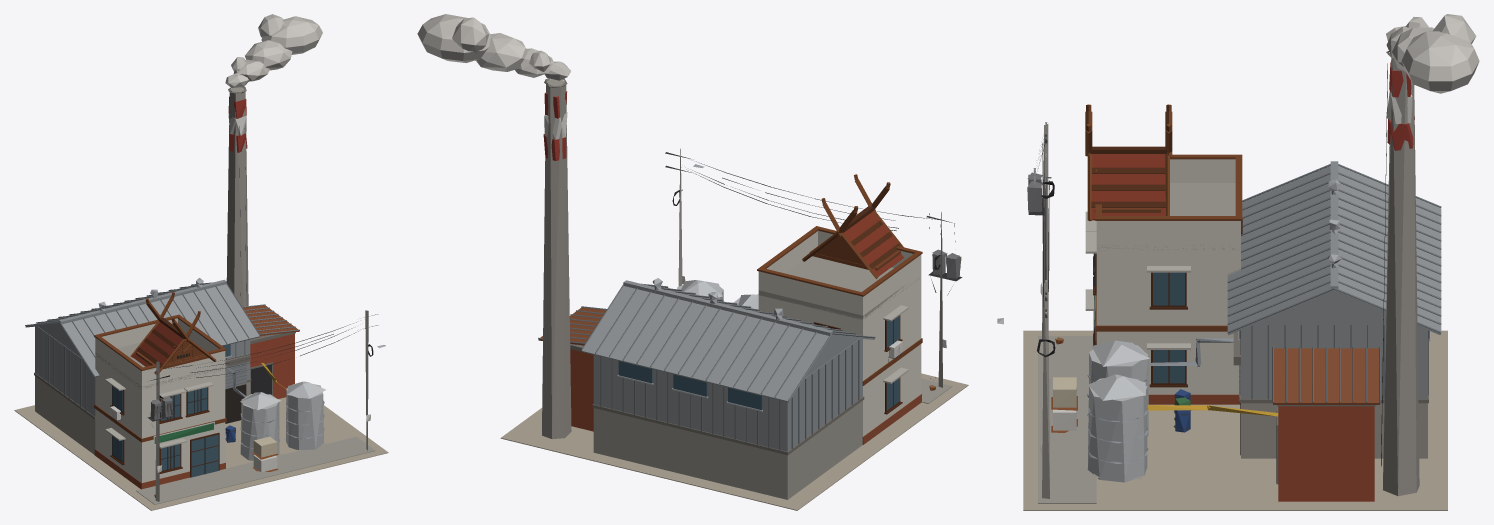
Rendered from factory_3.glb.
The picture shows the model from 3 angles, left to right: view 1: azimuth 30°, elevation 25°; view 2: azimuth 150°, elevation 25°; view 3: azimuth 270°, elevation 25°; orthographic projection. The views are drawn at different scales.
Visible parts, largest first — view 1: body, windows; view 2: body, windows; view 3: body, windows.
Boxes of the visible parts, x1,y1,x2,y2 form: body: (14,14,388,510); windows: (112,344,246,477); body: (417,14,968,510); windows: (618,315,899,410); body: (997,14,1479,510); windows: (1095,220,1429,455).
Size of the model in its own units: 20.26 by 21.38 by 18.06.
